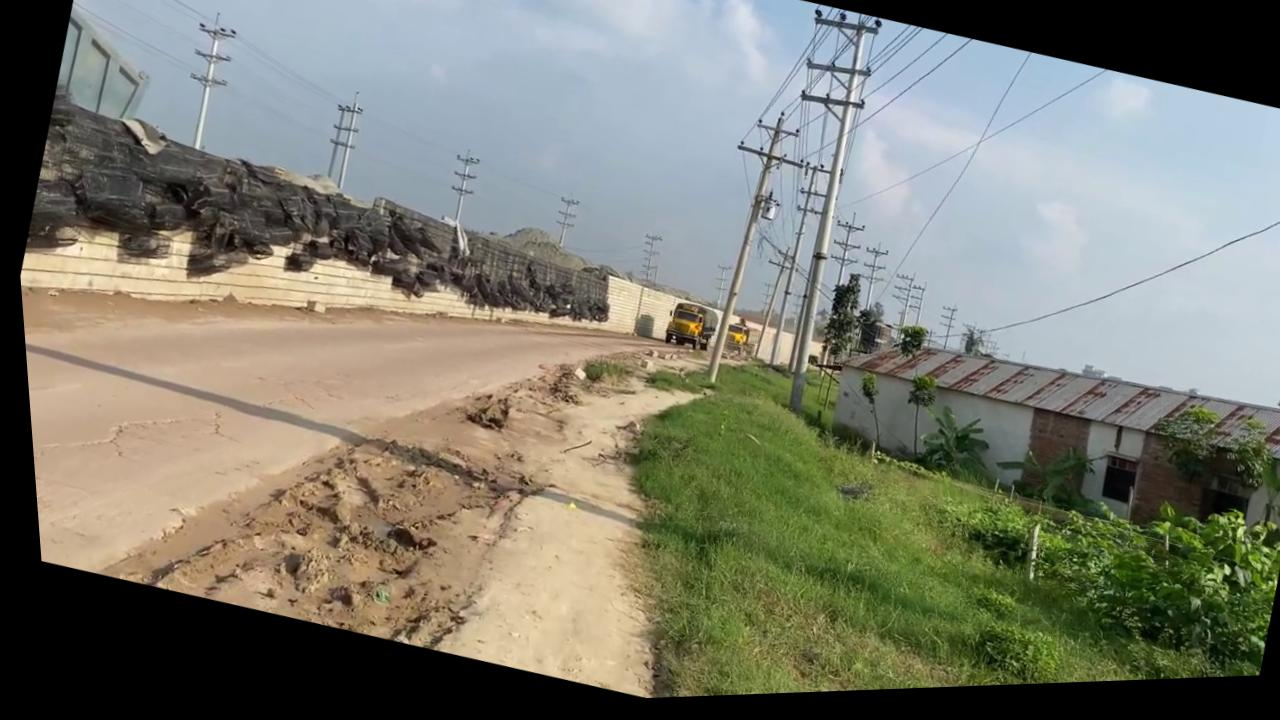Garbage: (15, 70, 633, 389)
Muddy road: (11, 169, 756, 720)
Pole: (710, 8, 906, 421), (751, 20, 902, 420), (670, 107, 828, 402)
Traffic-sign: (883, 375, 939, 468)
Tree: (655, 302, 718, 359), (716, 320, 748, 357)
